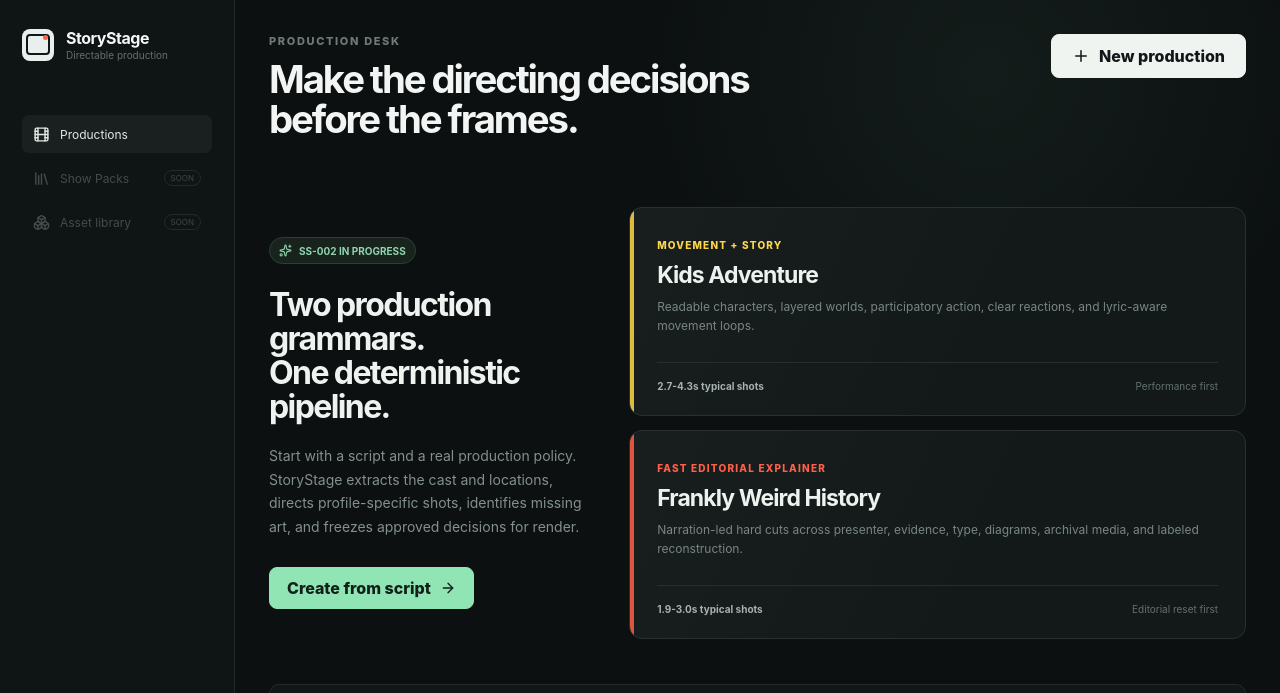
it: StoryStage studio › opens a real production setup from the home screen
Expected: the heading "Make the directing decisions" is shown, [269,60,749,139]
Expected: the button "Show Packs Soon" is disabled, [22,159,212,197]
Click the button "New production": (1148, 56) [1051,34,1246,78]
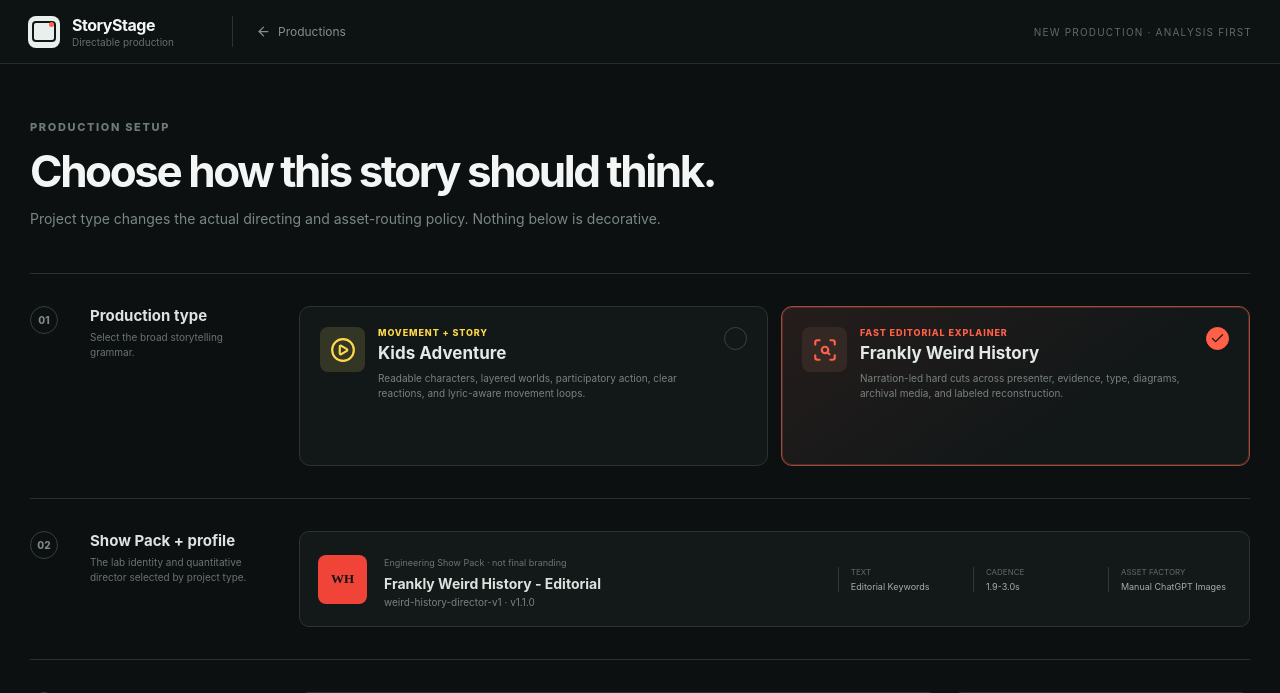
Expected: the heading "Choose how this story should think." is shown, [30,144,715,198]
Expected: the heading "Production type" is shown, [90,306,207,325]
